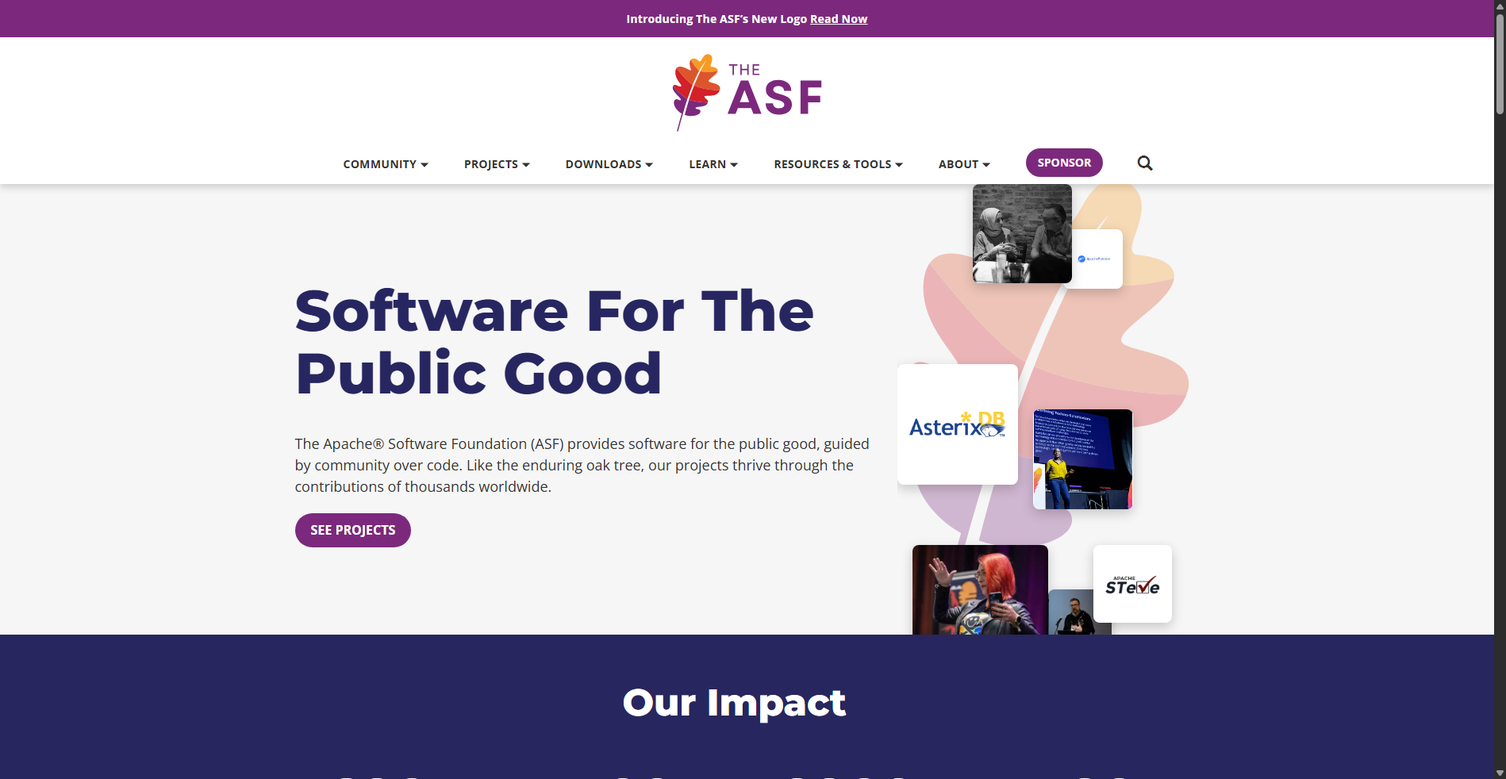general_button: (774, 148, 902, 180), (295, 514, 411, 548), (565, 148, 652, 180), (343, 148, 427, 180), (1026, 148, 1103, 177), (464, 148, 529, 180), (939, 148, 990, 180), (689, 148, 737, 180), (1140, 148, 1151, 180)
general_image: (913, 545, 1048, 680), (671, 53, 823, 132), (1033, 409, 1133, 509), (973, 184, 1072, 283), (910, 376, 1006, 473), (940, 647, 1018, 725), (1048, 590, 1112, 653), (1106, 557, 1160, 611), (1075, 241, 1111, 277)
general_link: (671, 82, 823, 101), (295, 765, 497, 779), (529, 765, 731, 779), (763, 765, 965, 779), (997, 765, 1199, 779), (663, 338, 703, 408), (846, 680, 872, 725), (810, 11, 868, 26)
icon_search: (1138, 156, 1153, 171)
